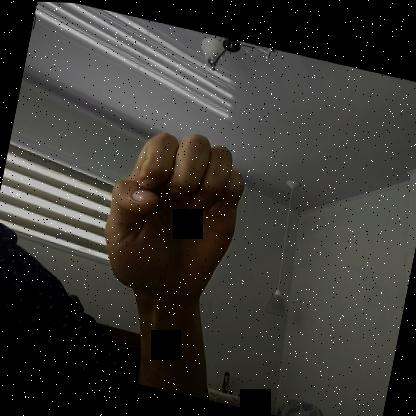E: (90, 111, 253, 310)
